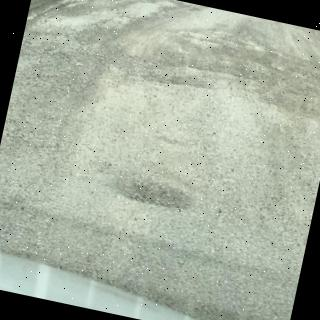pothole: (117, 181, 192, 209)
